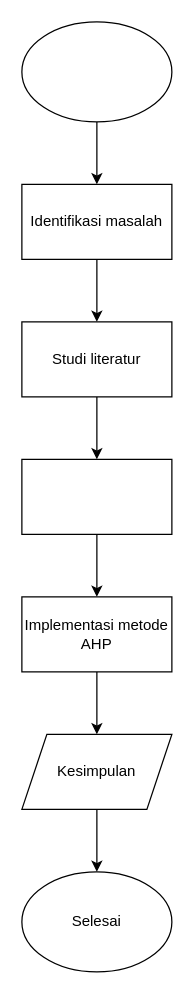
This 194x994 diagram has some shape labels left out. Each missing label, with the box of its shape:
Mulai: (21, 21, 172, 122)
Pengumpulan data: (21, 458, 172, 534)
